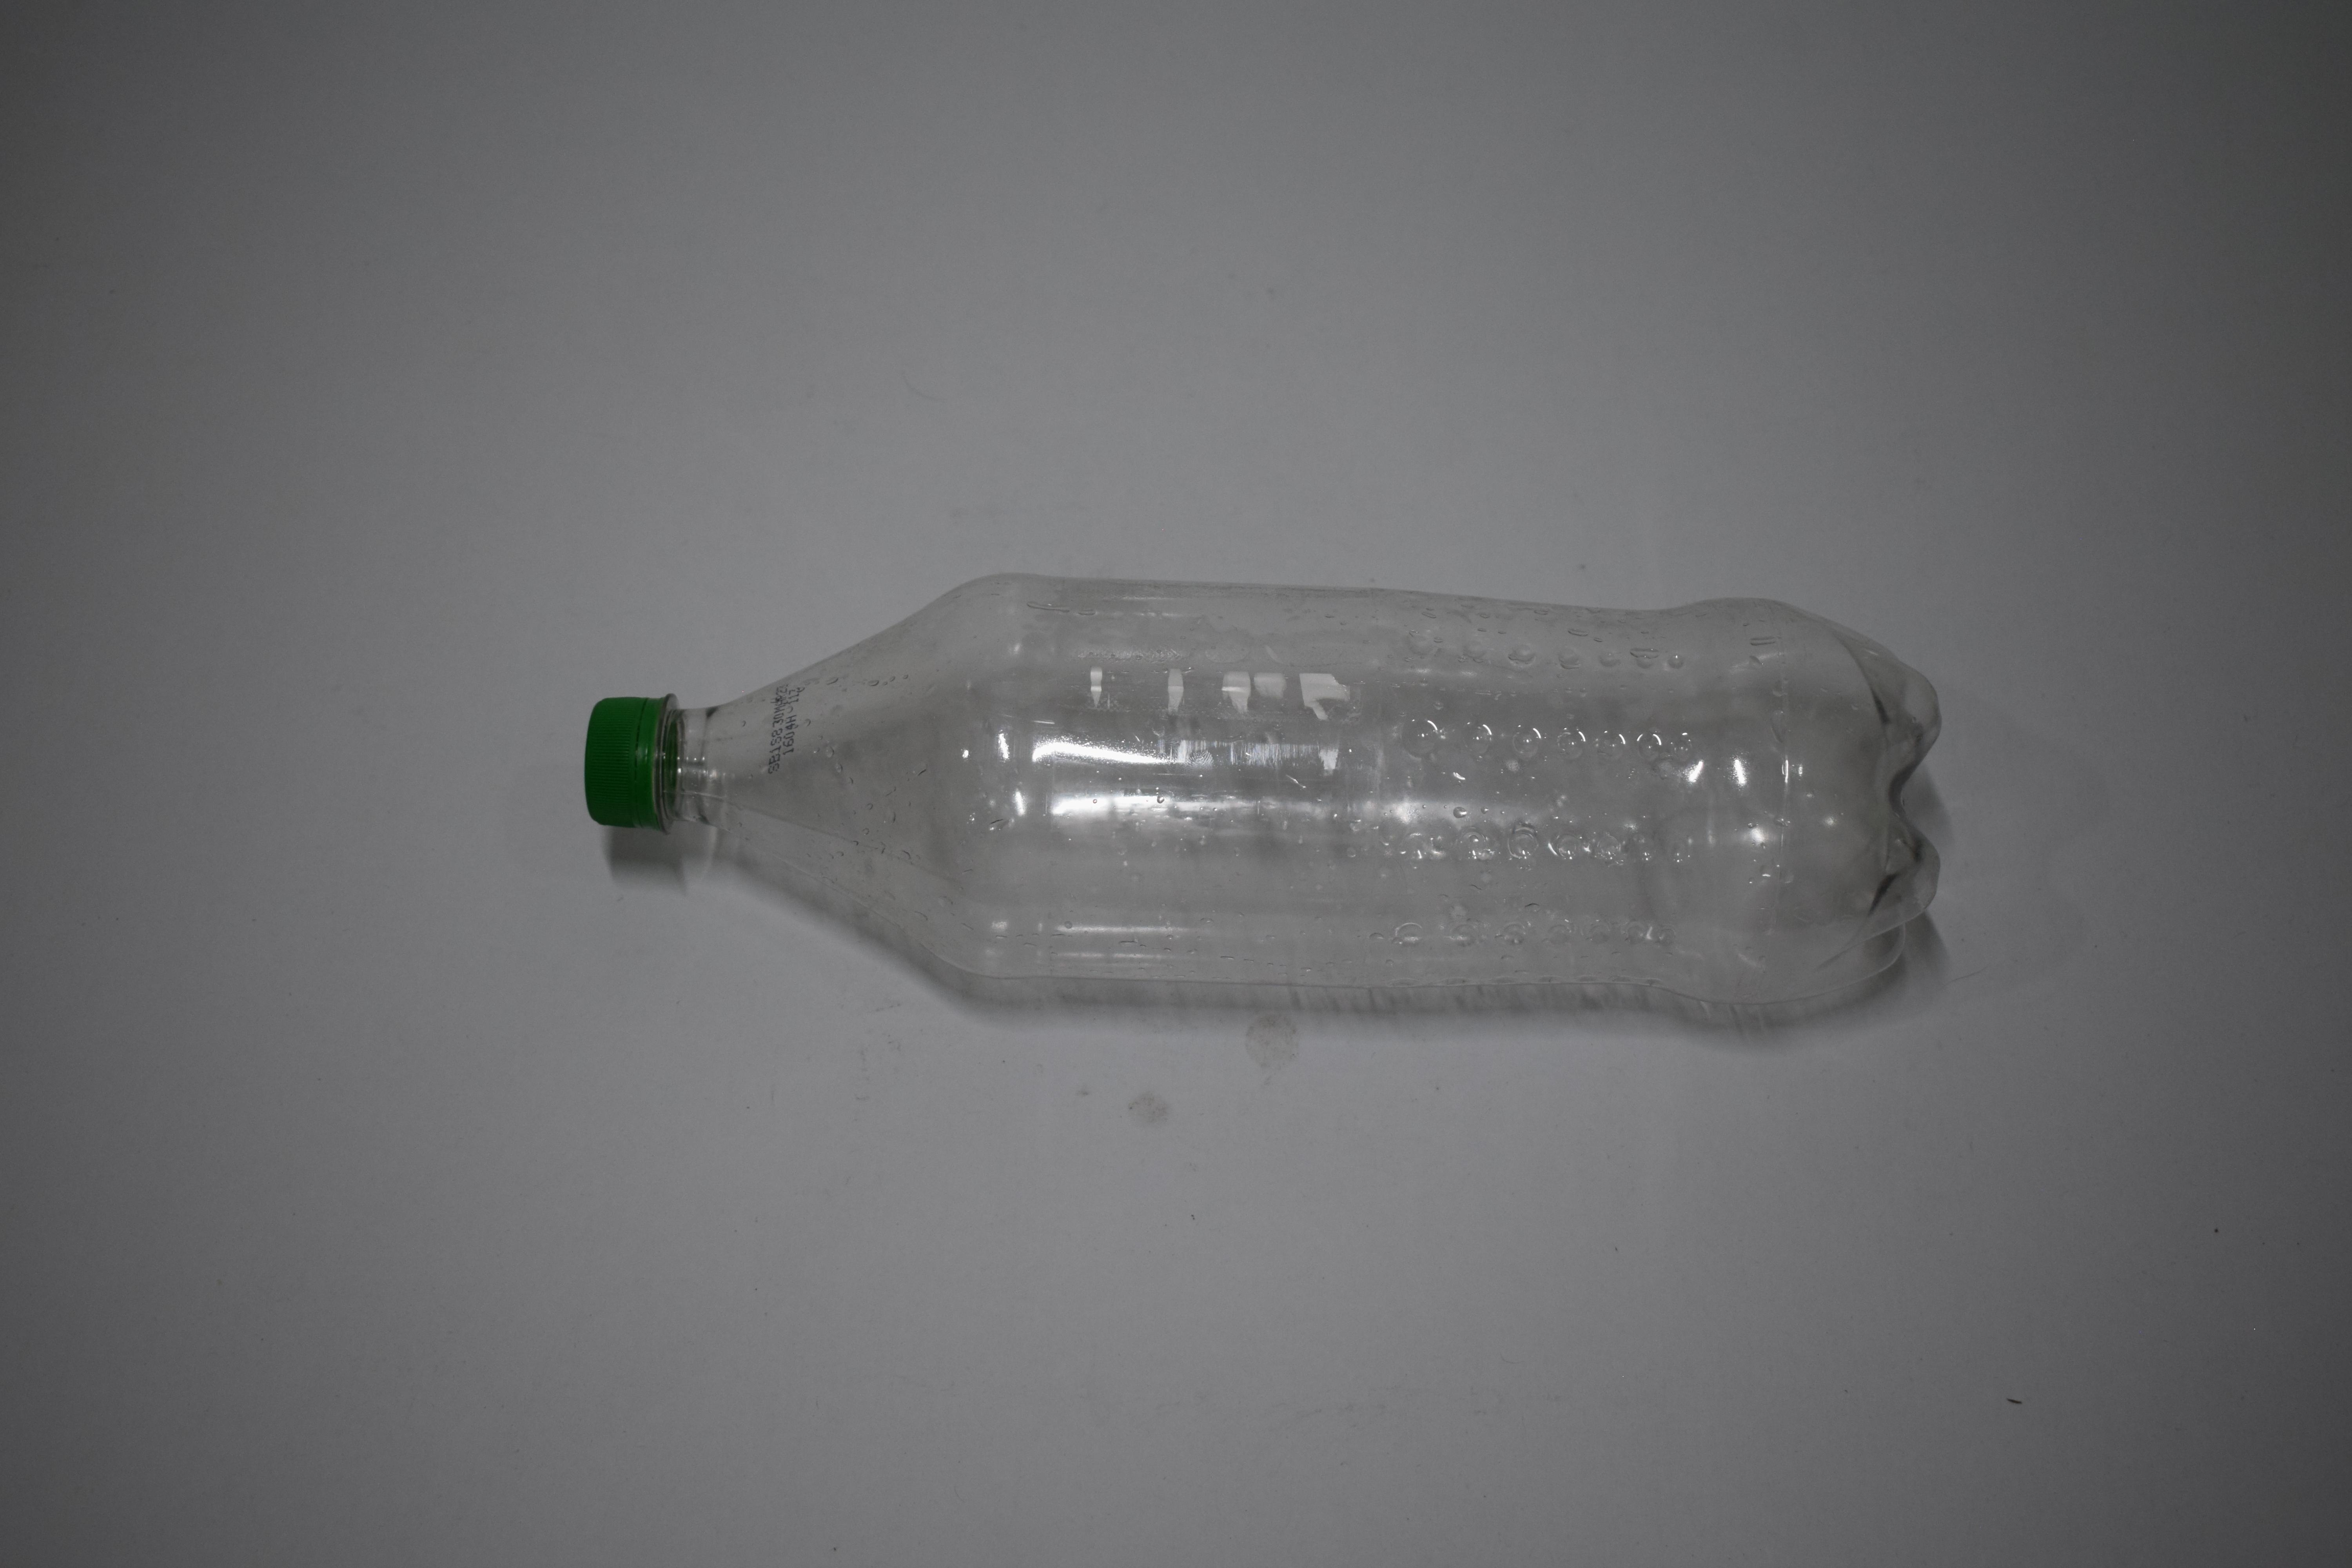bottle: (0, 0, 165, 247)
